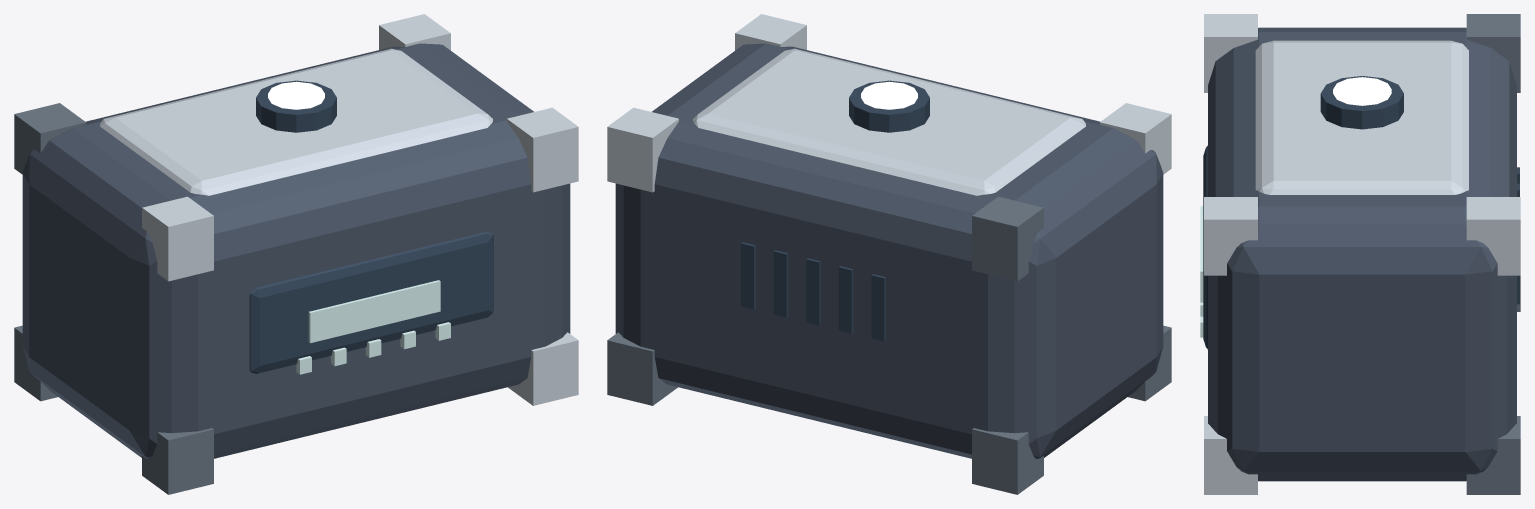
Rendered from box_ammo_detail.glb.
3 views of the same model, side by side, from view 1: azimuth 30°, elevation 25°; view 2: azimuth 150°, elevation 25°; view 3: azimuth 270°, elevation 25° (orthographic). The views are drawn at different scales.
Visible parts, largest first — view 1: sci_fi_chassis, reinforced_lid, front_interface_armor, outer_corner_joint_011, front_hologram_window, outer_corner_joint_111, outer_corner_joint_010, outer_corner_joint_110, outer_corner_joint_001, top_lock, outer_corner_joint_101, top_lock_energy (+1 smaller); view 2: sci_fi_chassis, reinforced_lid, outer_corner_joint_001, outer_corner_joint_101, outer_corner_joint_000, outer_corner_joint_100, outer_corner_joint_011, top_lock, outer_corner_joint_111, top_lock_energy, outer_corner_joint_010, rear_heat_vents_1 (+4 smaller); view 3: sci_fi_chassis, reinforced_lid, outer_corner_joint_101, outer_corner_joint_111, top_lock, outer_corner_joint_100, outer_corner_joint_110, outer_corner_joint_001, outer_corner_joint_011, top_lock_energy, front_interface_armor, front_hologram_window.
Boxes of the visible parts, x1,y1,x2,y2 form: sci_fi_chassis: (22, 43, 570, 458); reinforced_lid: (100, 48, 492, 195); front_interface_armor: (249, 231, 493, 373); outer_corner_joint_011: (142, 196, 213, 281); front_hologram_window: (308, 280, 440, 343); outer_corner_joint_111: (507, 107, 578, 192); outer_corner_joint_010: (142, 428, 213, 494); outer_corner_joint_110: (508, 332, 578, 405); outer_corner_joint_001: (14, 103, 85, 174); top_lock: (256, 80, 336, 132); outer_corner_joint_101: (379, 14, 450, 50); top_lock_energy: (268, 81, 324, 109); sci_fi_chassis: (615, 43, 1163, 458); reinforced_lid: (693, 48, 1085, 195); outer_corner_joint_001: (972, 196, 1043, 281); outer_corner_joint_101: (607, 107, 678, 192); outer_corner_joint_000: (972, 428, 1043, 494); outer_corner_joint_100: (607, 332, 677, 405); outer_corner_joint_011: (1100, 103, 1171, 174); top_lock: (849, 80, 929, 132); outer_corner_joint_111: (735, 14, 806, 50); top_lock_energy: (861, 81, 917, 109); outer_corner_joint_010: (1128, 325, 1171, 401); rear_heat_vents_1: (773, 250, 788, 317); sci_fi_chassis: (1208, 27, 1516, 481); reinforced_lid: (1255, 40, 1468, 194); outer_corner_joint_101: (1466, 197, 1520, 275); outer_corner_joint_111: (1204, 197, 1257, 275); top_lock: (1320, 76, 1403, 129); outer_corner_joint_100: (1466, 416, 1520, 494); outer_corner_joint_110: (1204, 416, 1257, 494); outer_corner_joint_001: (1466, 14, 1520, 92); outer_corner_joint_011: (1204, 14, 1257, 92); top_lock_energy: (1333, 77, 1391, 105); front_interface_armor: (1203, 145, 1207, 349); front_hologram_window: (1200, 206, 1203, 302).
Bounding box in the file's own units: 2 × 1.3 × 1.24.
